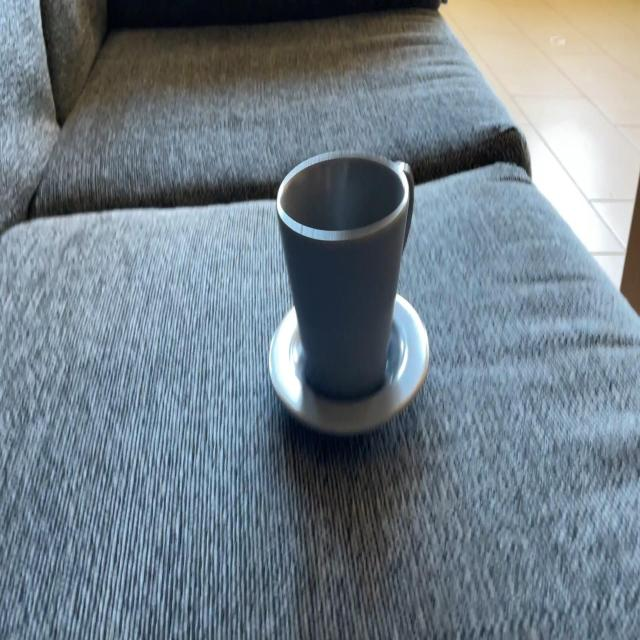cup: (276, 148, 414, 400)
